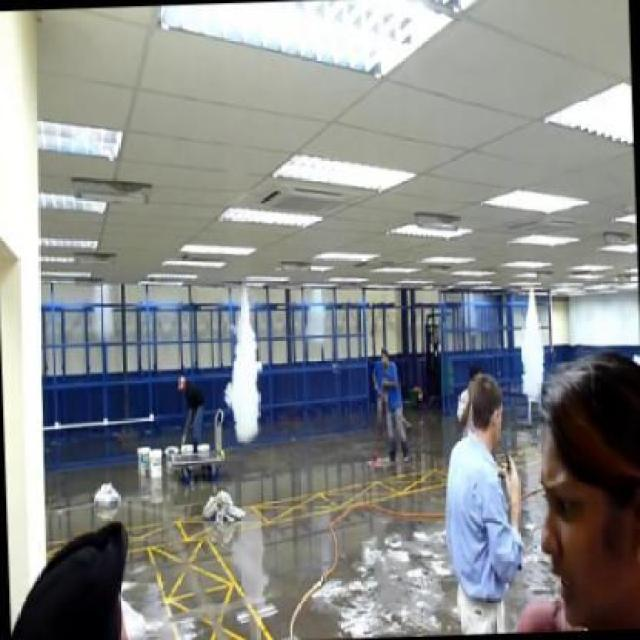fire: (223, 286, 268, 449), (514, 292, 548, 408)
